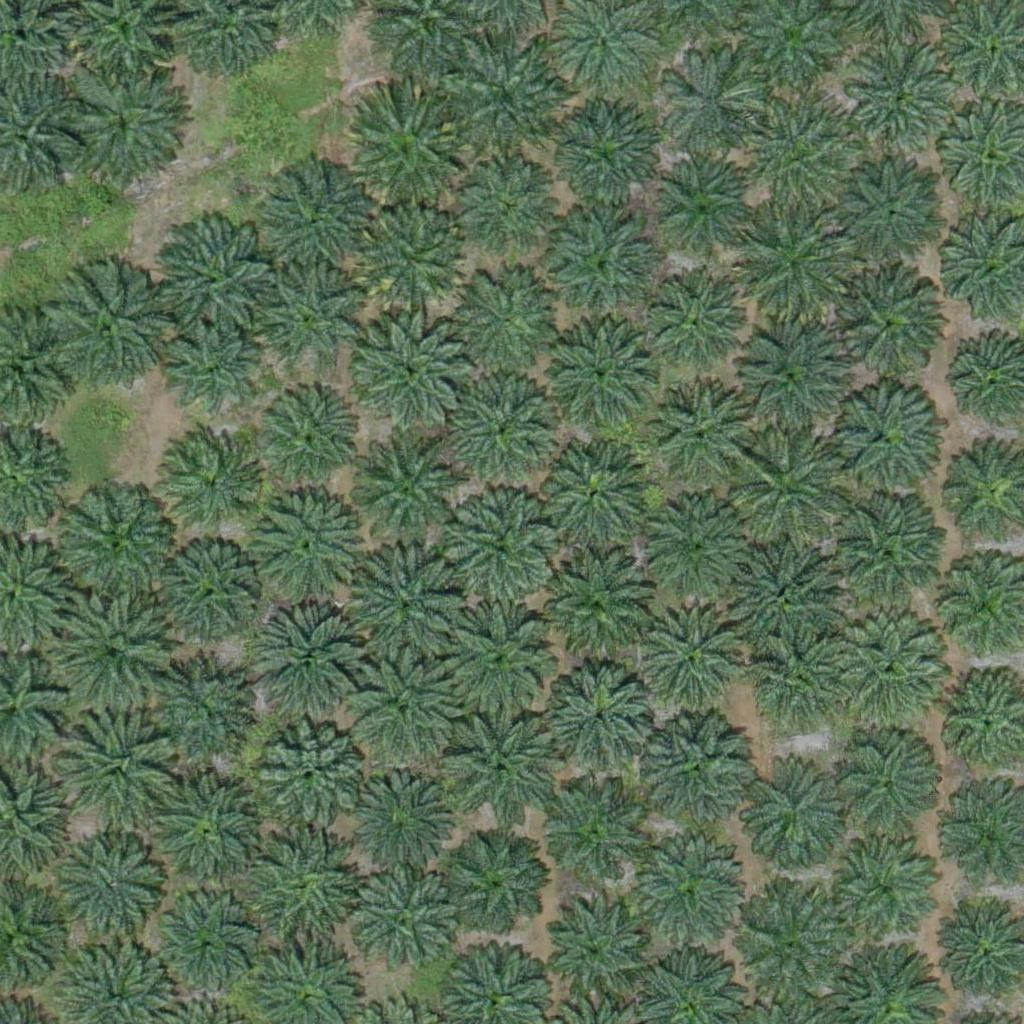Kelapa_Sawit: (63, 63, 188, 189), (822, 612, 947, 738), (150, 217, 275, 343), (44, 270, 169, 396), (51, 588, 176, 714), (53, 478, 178, 604), (239, 829, 364, 955), (55, 704, 180, 830), (343, 92, 468, 217), (830, 157, 943, 271), (832, 834, 945, 948), (736, 756, 849, 870), (549, 104, 662, 217), (734, 426, 847, 539), (726, 539, 839, 652), (635, 604, 748, 717), (539, 315, 652, 428), (357, 311, 470, 424), (354, 438, 467, 551), (348, 551, 461, 664), (247, 485, 360, 598), (347, 659, 460, 772), (441, 602, 554, 715), (733, 891, 846, 1004), (546, 896, 659, 1009), (445, 717, 558, 830), (341, 762, 454, 875), (848, 43, 960, 157), (830, 265, 942, 379), (825, 378, 937, 492), (739, 204, 851, 318), (248, 607, 360, 721), (830, 723, 942, 837), (642, 711, 754, 825), (450, 47, 562, 160), (738, 104, 850, 217), (830, 490, 942, 603), (732, 323, 844, 436), (535, 436, 647, 549), (542, 554, 654, 667), (448, 263, 560, 376), (449, 373, 561, 486), (447, 489, 559, 602), (545, 667, 657, 780), (537, 784, 649, 897), (633, 845, 745, 958), (350, 871, 462, 984), (256, 720, 368, 833), (151, 774, 263, 887), (651, 160, 751, 261), (644, 271, 744, 372), (648, 378, 748, 479), (646, 495, 746, 596), (552, 213, 652, 314), (455, 156, 555, 257), (361, 206, 461, 307), (271, 168, 371, 269), (259, 266, 359, 367), (255, 387, 355, 488), (161, 319, 261, 420), (447, 834, 547, 935), (154, 902, 254, 1003), (66, 842, 166, 943), (657, 57, 757, 157), (159, 434, 259, 534), (157, 543, 257, 643), (142, 666, 242, 766), (755, 643, 830, 718)
